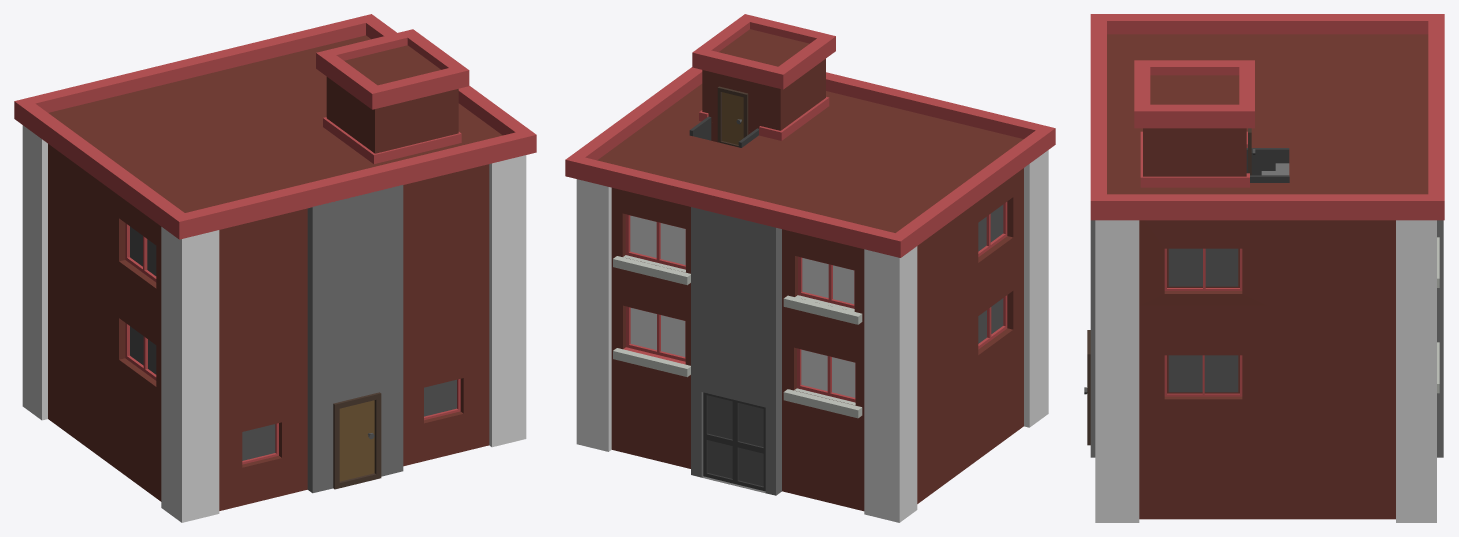
The model's file is Building D Red.fbx.
3 renders of one model, left to right at view 1: azimuth 30°, elevation 25°; view 2: azimuth 150°, elevation 25°; view 3: azimuth 270°, elevation 25°, orthographic. The views are drawn at different scales.
Parts seen in each view (by area): view 1: Building D Red.001; view 2: Building D Red.001; view 3: Building D Red.001.
Part boxes in pixels (bbox=[...]): Building D Red.001: bbox=[14, 14, 536, 522]; Building D Red.001: bbox=[565, 14, 1055, 522]; Building D Red.001: bbox=[1084, 14, 1444, 522].
Bounding box in the file's own units: 1121 × 912 × 1094.
